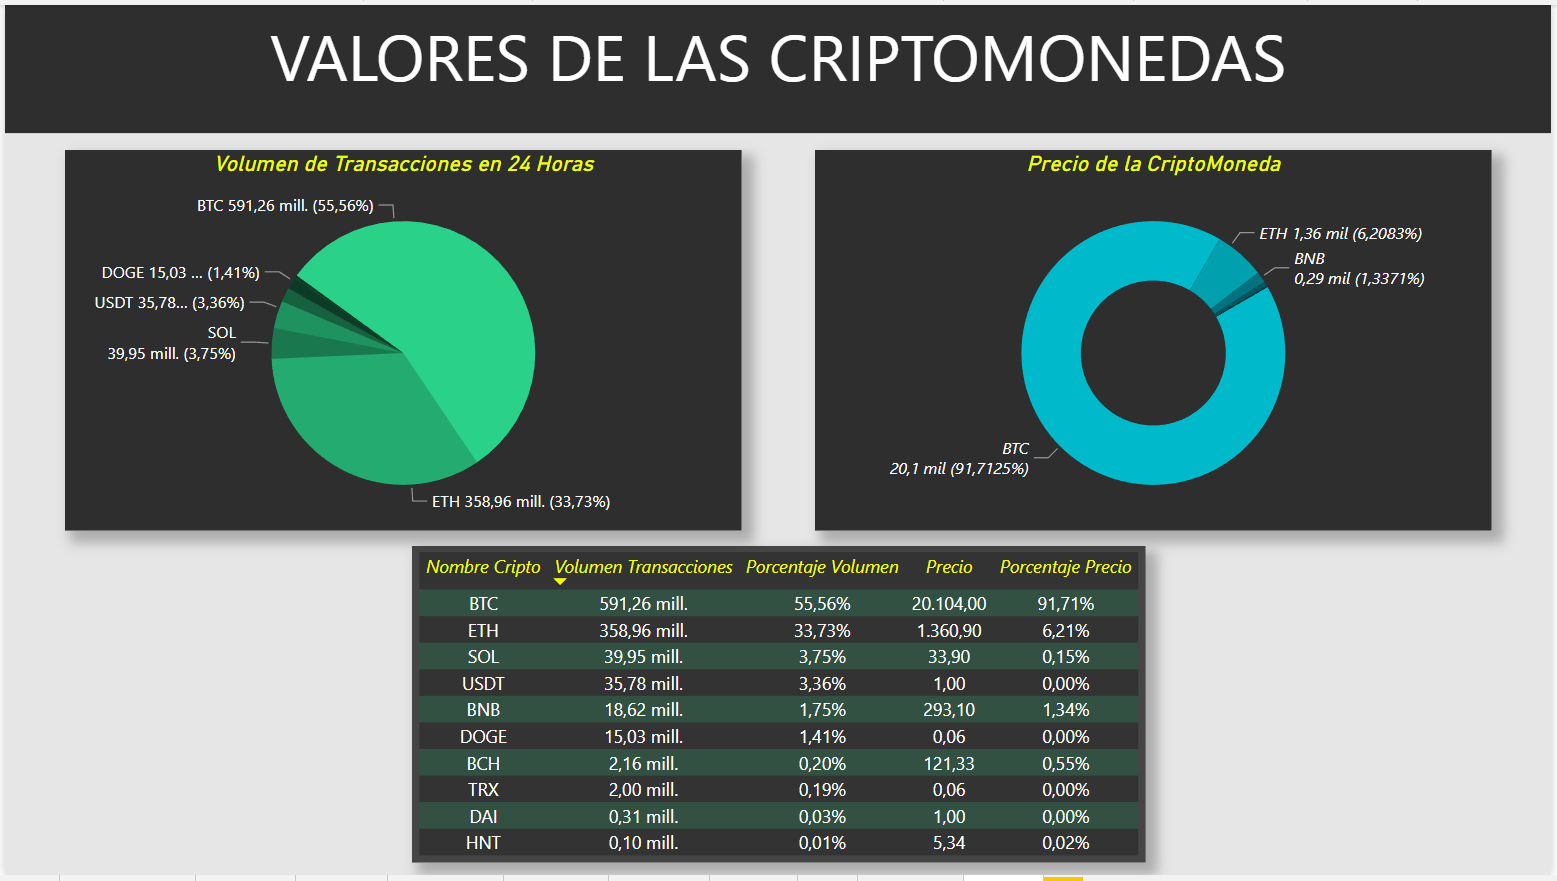

The dashboard page shown, as its layout file describes it:
{"tool":"powerbi","page":{"name":"Panel General","canvas":[1280,720],"ordinal":10},"visuals":[{"type":"tableEx","title":"fd","fields":{"Values":["markets.result.baseCurrency","markets.result.quoteVolume24h","Sum(markets.result.quoteVolume24h)1","Sum(markets.result.price)","Divide(Sum(markets.result.price), ScopedEval(Sum(markets.result.price), []))"]},"box":[336.5,447.4,606.9,261.6],"z":0},{"type":"pieChart","title":"Volumen de Transacciones en 24 Horas","fields":{"Y":["Sum(markets.result.quoteVolume24h)"],"Category":["markets.result.baseCurrency"]},"box":[50,119.6,560,315.1],"z":1000},{"type":"donutChart","title":"Precio de la CriptoMoneda","fields":{"Category":["markets.result.baseCurrency"],"Y":["Sum(markets.result.price)"]},"box":[670,119.6,560,315.1],"z":2000},{"type":"textbox","box":[0,0,1280,106],"z":3000}]}

Visuals, with their boxes in screenshot pixels (x1, y1, x2, y2), scaled from the page's 1280x720 canvas onto the 1557x881 screenshot:
"fd" tableEx: box=[409, 547, 1148, 868]
"Volumen de Transacciones en 24 Horas" pieChart: box=[61, 146, 742, 532]
"Precio de la CriptoMoneda" donutChart: box=[815, 146, 1496, 532]
textbox: box=[0, 0, 1556, 130]
